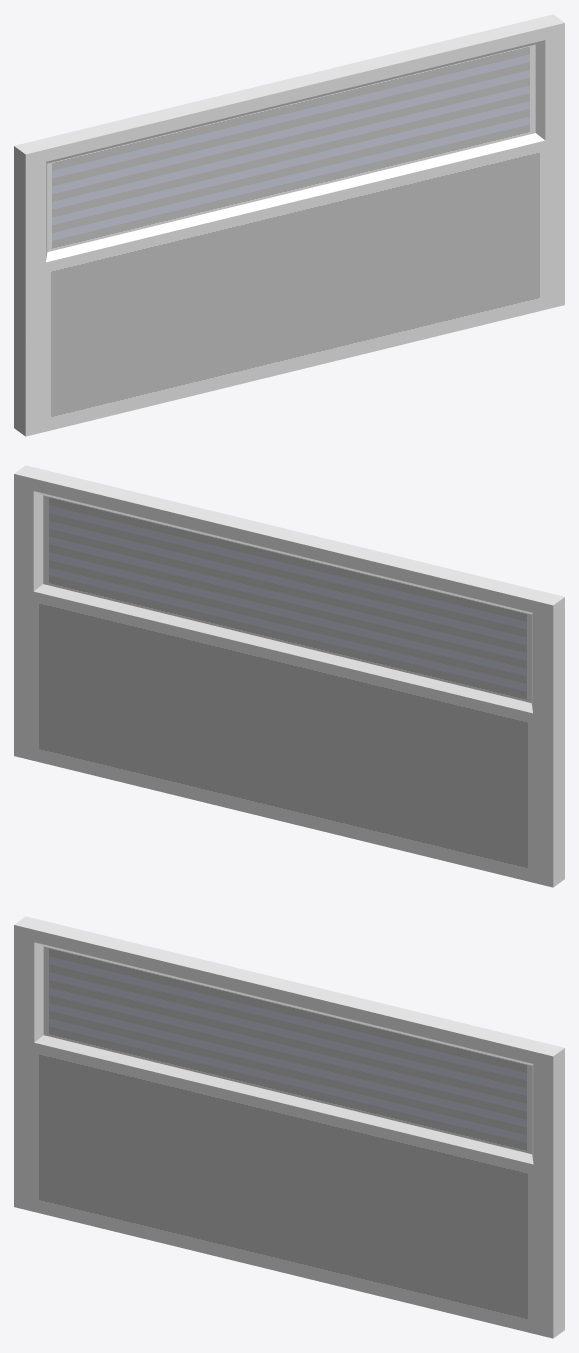
The model's file is officeWall_2.fbx.
3 views of the same model, one above another, from view 1: azimuth 30°, elevation 25°; view 2: azimuth 150°, elevation 25°; view 3: azimuth 330°, elevation 25° (orthographic).
Visible parts, largest first — view 1: wall_8; view 2: wall_8; view 3: wall_8.
Part boxes in pixels (x1,y1,x2,y2): wall_8: [14, 14, 564, 436]; wall_8: [14, 465, 564, 887]; wall_8: [14, 916, 564, 1338].
Bounding box in the file's own units: 10 × 5 × 0.3747.
Materials: 1 (1 with a texture image).
